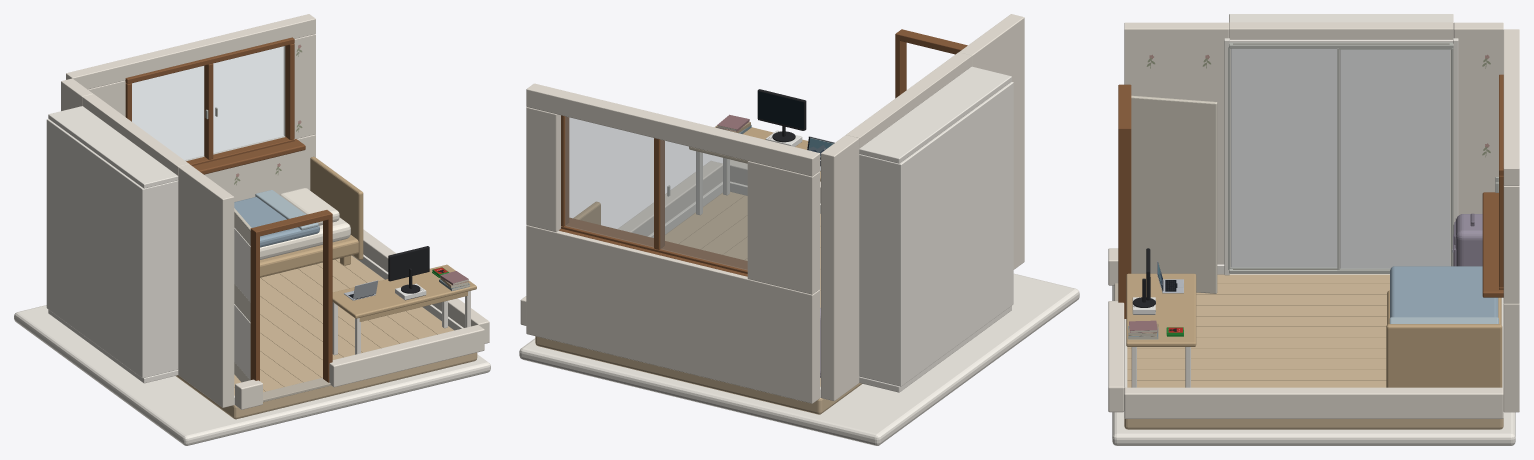
File: room-05.glb
3 views of the same model, side by side, from view 1: azimuth 30°, elevation 25°; view 2: azimuth 150°, elevation 25°; view 3: azimuth 270°, elevation 25° (orthographic). The views are drawn at different scales.
Parts seen in each view (by area): view 1: Architecture, Wardrobe, Window, Bed, Entrance, Desk, Monitor; view 2: Architecture, Wardrobe, Window, Monitor, Entrance, Desk; view 3: Architecture, Wardrobe, Entrance, Bed, Desk, Window, Luggage, Books, Monitor, Laptop.
Part boxes in pixels (bbox=[...]): Architecture: bbox=[14, 14, 490, 445]; Wardrobe: bbox=[46, 106, 178, 383]; Window: bbox=[125, 37, 305, 174]; Bed: bbox=[234, 156, 363, 277]; Entrance: bbox=[234, 208, 332, 402]; Desk: bbox=[332, 264, 476, 355]; Monitor: bbox=[388, 246, 429, 293]; Architecture: bbox=[519, 14, 1079, 445]; Wardrobe: bbox=[859, 66, 1013, 392]; Window: bbox=[559, 115, 747, 276]; Monitor: bbox=[757, 89, 806, 142]; Entrance: bbox=[895, 29, 967, 98]; Desk: bbox=[689, 125, 820, 214]; Architecture: bbox=[1108, 22, 1519, 445]; Wardrobe: bbox=[1224, 14, 1458, 275]; Entrance: bbox=[1114, 84, 1217, 318]; Bed: bbox=[1386, 266, 1502, 387]; Desk: bbox=[1126, 273, 1196, 387]; Window: bbox=[1482, 74, 1503, 297]; Luggage: bbox=[1452, 213, 1482, 266]; Books: bbox=[1128, 320, 1158, 339]; Monitor: bbox=[1132, 248, 1155, 307]; Laptop: bbox=[1157, 261, 1183, 293].
Bounding box in the file's own units: 4.2 × 3.03 × 4.12.
